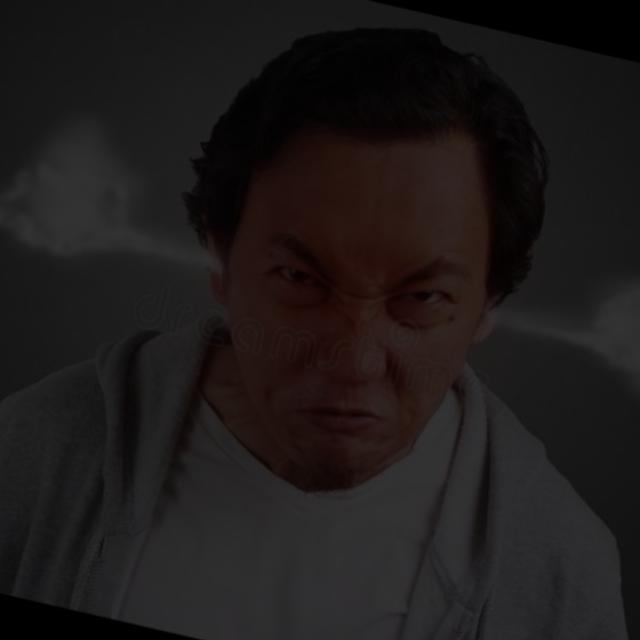Angry: (192, 70, 522, 524)
